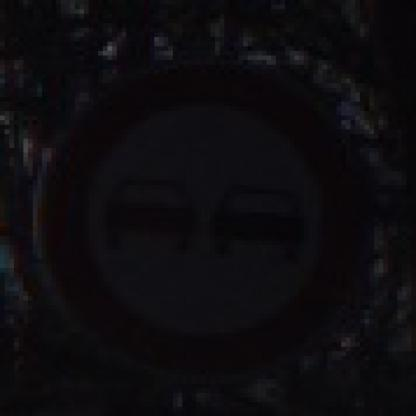No Overtaking: (39, 38, 385, 380)
